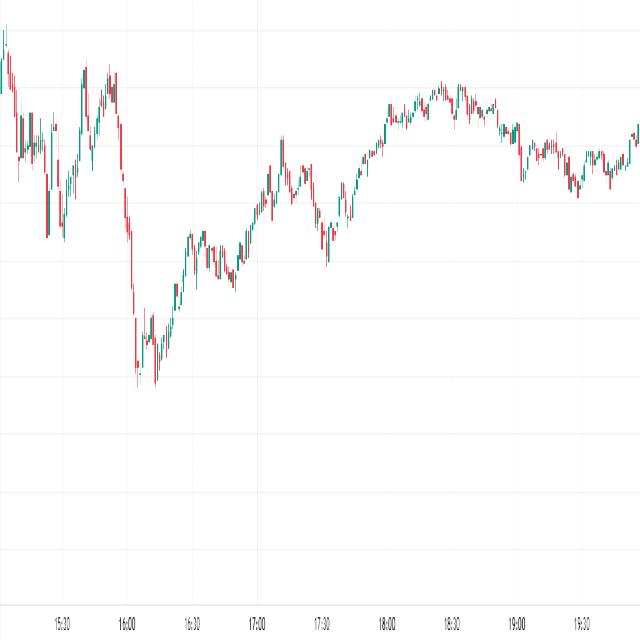Double-Bottom: (127, 285, 171, 401)
Head-Shoulders: (242, 118, 326, 257)
Rounding-Top: (73, 55, 128, 195)
